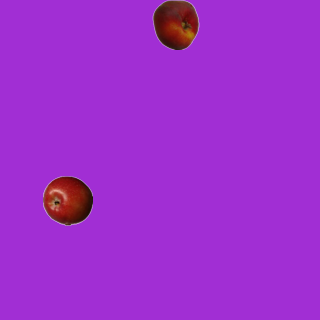Apple Braeburn: (42, 175, 92, 225)
Nectarine Flat: (150, 0, 200, 49)
